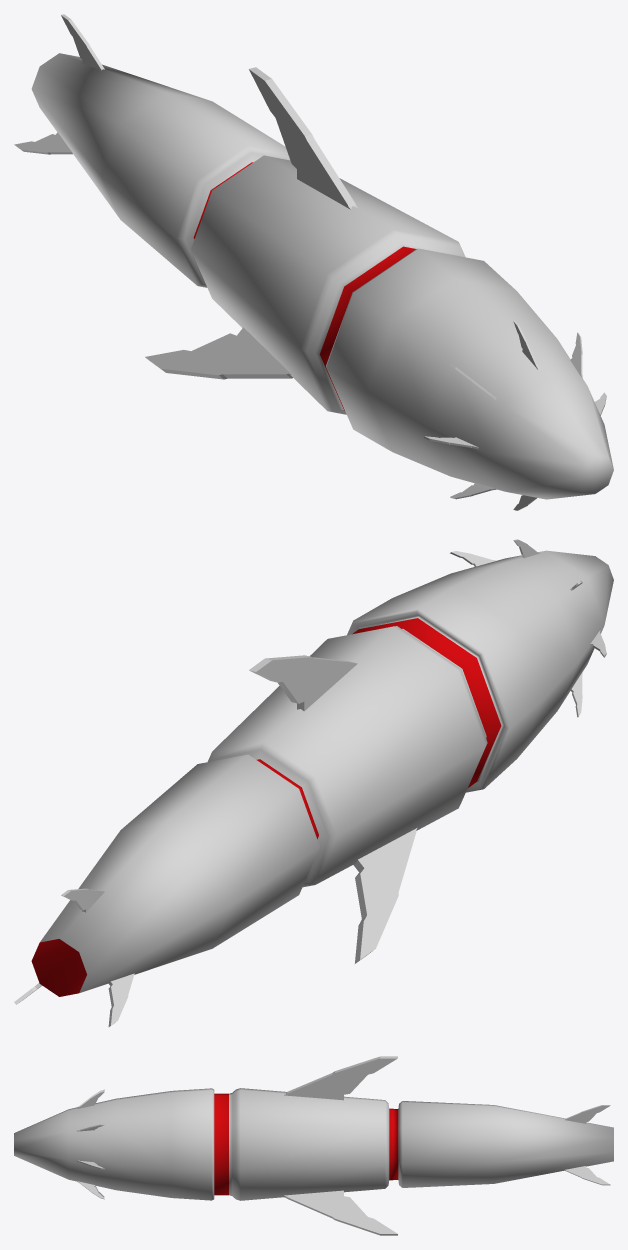
File: SM_LW_Missile-Hellseeker.fbx
3 renders of one model, top to bottom at view 1: azimuth 30°, elevation 25°; view 2: azimuth 150°, elevation 25°; view 3: azimuth 270°, elevation 25°, orthographic. The views are drawn at different scales.
Visible parts, largest first — view 1: SM_Missile-HellSeeker; view 2: SM_Missile-HellSeeker; view 3: SM_Missile-HellSeeker.
Boxes of the visible parts, bbox=[...] form: SM_Missile-HellSeeker: bbox=[14, 14, 613, 510]; SM_Missile-HellSeeker: bbox=[14, 539, 613, 1026]; SM_Missile-HellSeeker: bbox=[14, 1056, 613, 1235].
Size of the model in its own units: 11.6 by 13.8 by 50.
